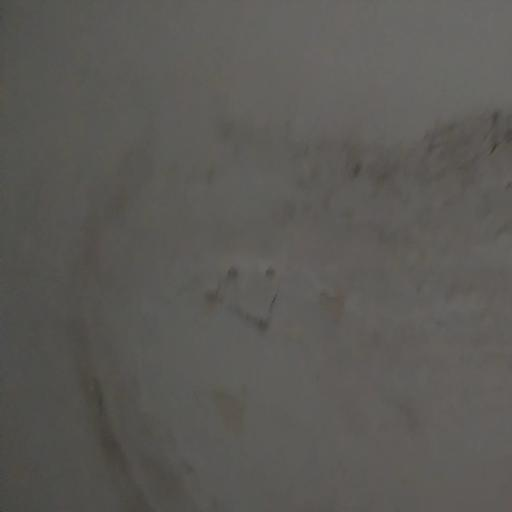stain: (190, 94, 512, 326), (22, 150, 206, 512)
